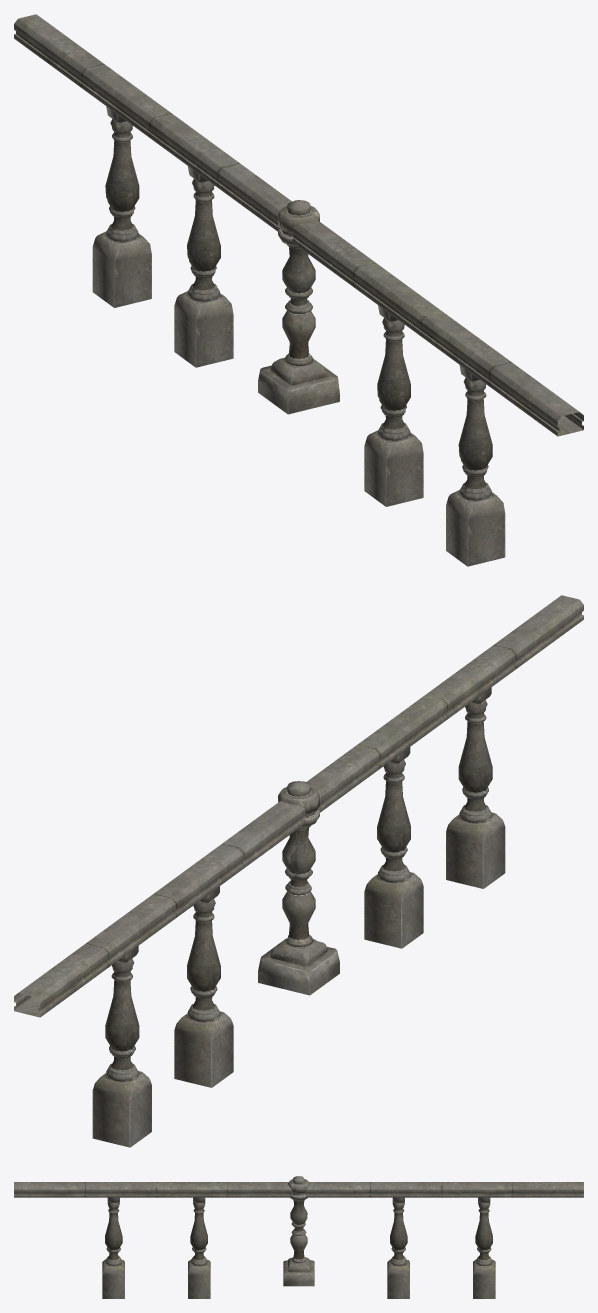
The model's file is Railing01_3.fbx.
3 views of the same model, one above another, from view 1: azimuth 30°, elevation 25°; view 2: azimuth 150°, elevation 25°; view 3: azimuth 270°, elevation 25° (orthographic). The views are drawn at different scales.
Visible parts, largest first — view 1: Railing01_3; view 2: Railing01_3; view 3: Railing01_3.
Part boxes in pixels (x1,y1,x2,y2): Railing01_3: (14, 14, 583, 566); Railing01_3: (14, 595, 583, 1147); Railing01_3: (14, 1176, 583, 1298).
Size of the model in its own units: 27.69 by 114 by 500.
